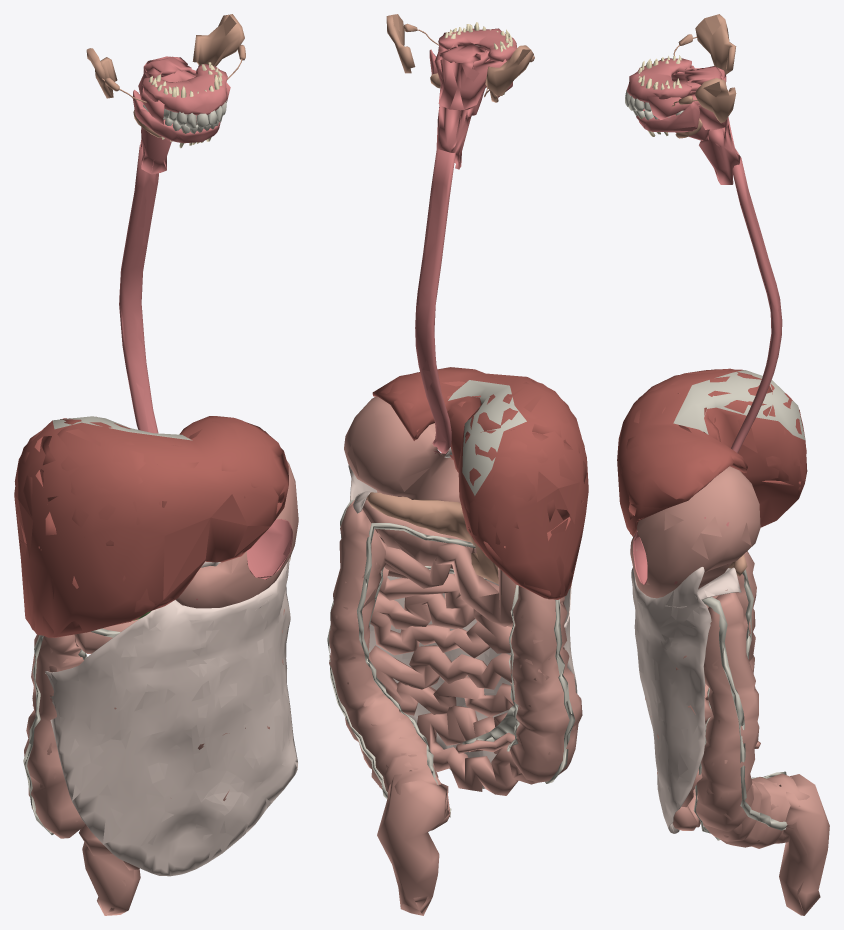
Rendered from adult_male.digestive.LOD3.glb.
3 renders of one model, left to right at view 1: azimuth 30°, elevation 25°; view 2: azimuth 150°, elevation 25°; view 3: azimuth 270°, elevation 25°, orthographic. The views are drawn at different scales.
Parts seen in each view (by area): view 1: ADULT.MALE.DIGESTIVE.GREATER_OMENTUM, ADULT.MALE.DIGESTIVE.LIVER, ADULT.MALE.DIGESTIVE.ASCENDING_COLON, ADULT.MALE.DIGESTIVE.OESOPHAGUS, ADULT.MALE.DIGESTIVE.STOMACH, ADULT.MALE.DIGESTIVE.POSTERIOR_MEDIAL_SEGMENT_OF_LIVER_VIII, ADULT.MALE.DIGESTIVE.GINGIVA, ADULT.MALE.DIGESTIVE.SIGMOID_COLON, ADULT.MALE.DIGESTIVE.MUCOSA_OF_STOMACH, ADULT.MALE.DIGESTIVE.PAROTID_GLAND.L, ADULT.MALE.DIGESTIVE.LEFT_POSTERIOR_LATERAL_SEGMENT_OF_LIVER, ADULT.MALE.DIGESTIVE.LARYNGOPHARYNX (+8 smaller); view 2: ADULT.MALE.DIGESTIVE.LIVER, ADULT.MALE.DIGESTIVE.JEJUNUM, ADULT.MALE.DIGESTIVE.DESCENDING_COLON, ADULT.MALE.DIGESTIVE.ASCENDING_COLON, ADULT.MALE.DIGESTIVE.STOMACH, ADULT.MALE.DIGESTIVE.SIGMOID_COLON, ADULT.MALE.DIGESTIVE.OESOPHAGUS, ADULT.MALE.DIGESTIVE.PANCREAS, ADULT.MALE.DIGESTIVE.POSTERIOR_LATERAL_SEGMENT_OF_LIVER_VII, ADULT.MALE.DIGESTIVE.DUODENUM, ADULT.MALE.DIGESTIVE.GREATER_OMENTUM, ADULT.MALE.DIGESTIVE.FREE_TAENIA (+13 smaller); view 3: ADULT.MALE.DIGESTIVE.LIVER, ADULT.MALE.DIGESTIVE.GREATER_OMENTUM, ADULT.MALE.DIGESTIVE.DESCENDING_COLON, ADULT.MALE.DIGESTIVE.STOMACH, ADULT.MALE.DIGESTIVE.SIGMOID_COLON, ADULT.MALE.DIGESTIVE.OESOPHAGUS, ADULT.MALE.DIGESTIVE.GINGIVA, ADULT.MALE.DIGESTIVE.LEFT_POSTERIOR_LATERAL_SEGMENT_OF_LIVER, ADULT.MALE.DIGESTIVE.MESOCOLIC_TAENIA, ADULT.MALE.DIGESTIVE.LARYNGOPHARYNX, ADULT.MALE.DIGESTIVE.PAROTID_GLAND.R, ADULT.MALE.DIGESTIVE.PAROTID_GLAND.L (+9 smaller).
Boxes of the visible parts, box(x1,y1,x2,y2) form: ADULT.MALE.DIGESTIVE.GREATER_OMENTUM: box(45, 559, 297, 876); ADULT.MALE.DIGESTIVE.LIVER: box(14, 416, 288, 637); ADULT.MALE.DIGESTIVE.ASCENDING_COLON: box(24, 634, 85, 838); ADULT.MALE.DIGESTIVE.OESOPHAGUS: box(119, 145, 158, 433); ADULT.MALE.DIGESTIVE.STOMACH: box(175, 461, 298, 608); ADULT.MALE.DIGESTIVE.POSTERIOR_MEDIAL_SEGMENT_OF_LIVER_VIII: box(40, 416, 160, 545); ADULT.MALE.DIGESTIVE.GINGIVA: box(132, 64, 227, 143); ADULT.MALE.DIGESTIVE.SIGMOID_COLON: box(82, 842, 140, 915); ADULT.MALE.DIGESTIVE.MUCOSA_OF_STOMACH: box(196, 519, 292, 600); ADULT.MALE.DIGESTIVE.PAROTID_GLAND.L: box(192, 14, 244, 66); ADULT.MALE.DIGESTIVE.LEFT_POSTERIOR_LATERAL_SEGMENT_OF_LIVER: box(180, 416, 288, 502); ADULT.MALE.DIGESTIVE.LARYNGOPHARYNX: box(140, 127, 171, 174); ADULT.MALE.DIGESTIVE.LIVER: box(372, 367, 588, 599); ADULT.MALE.DIGESTIVE.JEJUNUM: box(369, 542, 537, 795); ADULT.MALE.DIGESTIVE.DESCENDING_COLON: box(329, 500, 450, 830); ADULT.MALE.DIGESTIVE.ASCENDING_COLON: box(509, 586, 582, 782); ADULT.MALE.DIGESTIVE.STOMACH: box(344, 396, 460, 502); ADULT.MALE.DIGESTIVE.SIGMOID_COLON: box(377, 770, 448, 915); ADULT.MALE.DIGESTIVE.OESOPHAGUS: box(415, 149, 455, 453); ADULT.MALE.DIGESTIVE.PANCREAS: box(366, 492, 498, 584); ADULT.MALE.DIGESTIVE.POSTERIOR_LATERAL_SEGMENT_OF_LIVER_VII: box(461, 430, 586, 544); ADULT.MALE.DIGESTIVE.DUODENUM: box(435, 543, 516, 626); ADULT.MALE.DIGESTIVE.GREATER_OMENTUM: box(348, 465, 577, 788); ADULT.MALE.DIGESTIVE.FREE_TAENIA: box(357, 523, 519, 785); ADULT.MALE.DIGESTIVE.LIVER: box(617, 369, 807, 536); ADULT.MALE.DIGESTIVE.GREATER_OMENTUM: box(631, 567, 711, 833); ADULT.MALE.DIGESTIVE.DESCENDING_COLON: box(696, 589, 809, 848); ADULT.MALE.DIGESTIVE.STOMACH: box(630, 466, 760, 598); ADULT.MALE.DIGESTIVE.SIGMOID_COLON: box(779, 774, 829, 915); ADULT.MALE.DIGESTIVE.OESOPHAGUS: box(731, 157, 782, 453); ADULT.MALE.DIGESTIVE.GINGIVA: box(627, 58, 699, 132); ADULT.MALE.DIGESTIVE.LEFT_POSTERIOR_LATERAL_SEGMENT_OF_LIVER: box(621, 425, 746, 519); ADULT.MALE.DIGESTIVE.MESOCOLIC_TAENIA: box(702, 597, 787, 830); ADULT.MALE.DIGESTIVE.LARYNGOPHARYNX: box(699, 122, 740, 184); ADULT.MALE.DIGESTIVE.PAROTID_GLAND.R: box(695, 14, 736, 74); ADULT.MALE.DIGESTIVE.PAROTID_GLAND.L: box(695, 78, 736, 123).
Size of the model in its own units: 0.2304 by 0.7717 by 0.1716.
